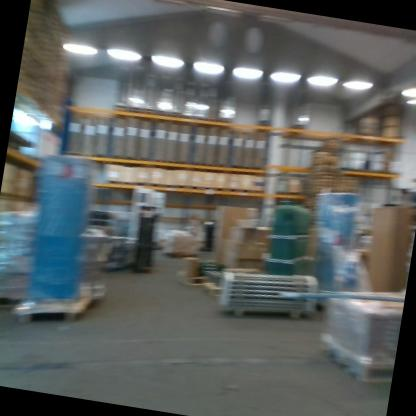pallet: (314, 332, 397, 387)
